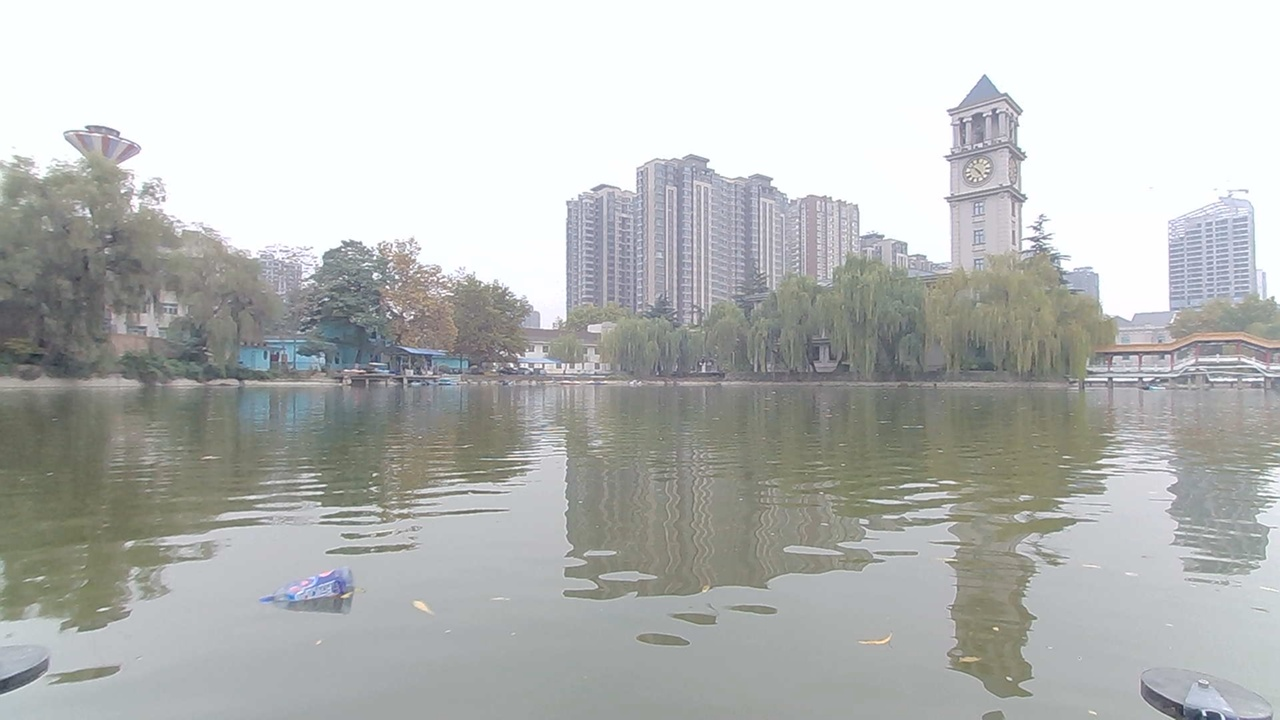bottle: (268, 557, 359, 615)
